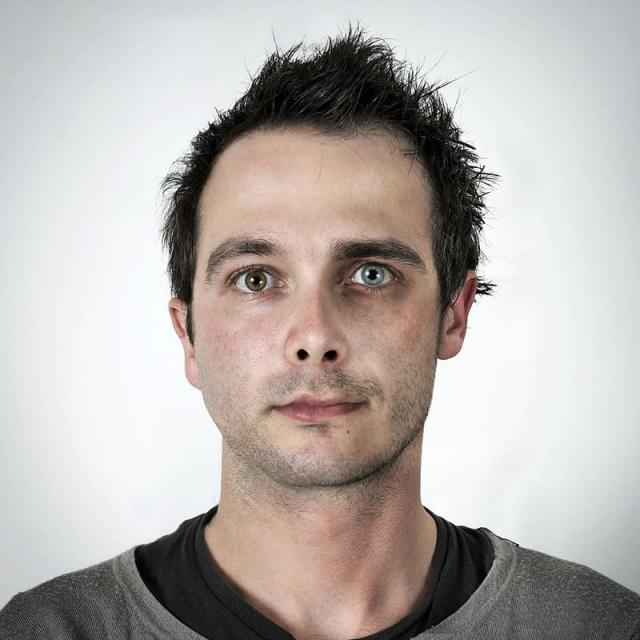earlobe: (436, 271, 478, 360), (168, 298, 202, 390)
